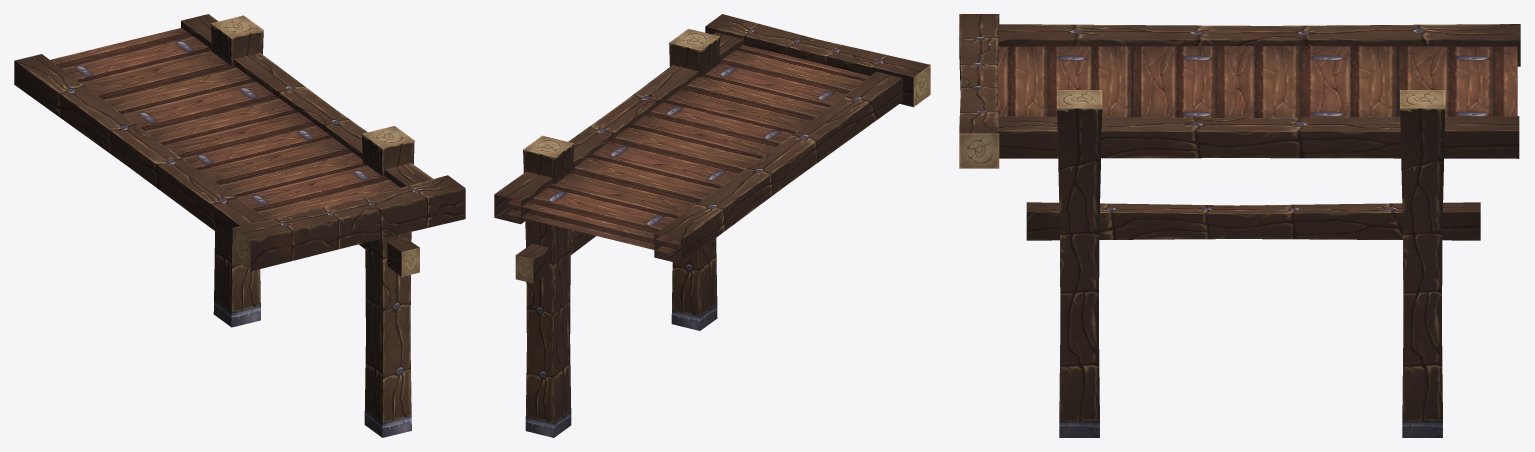
The model's file is wall_bridge_02.fbx.
3 views of the same model, side by side, from view 1: azimuth 30°, elevation 25°; view 2: azimuth 150°, elevation 25°; view 3: azimuth 270°, elevation 25° (orthographic). The views are drawn at different scales.
Parts seen in each view (by area): view 1: wall_bridge_02; view 2: wall_bridge_02; view 3: wall_bridge_02.
Part boxes in pixels (<box>): wall_bridge_02: <box>14,14,465,437</box>; wall_bridge_02: <box>494,14,930,437</box>; wall_bridge_02: <box>959,14,1520,437</box>.
Bounding box in the file's own units: 4.78 × 6.17 × 9.5.
